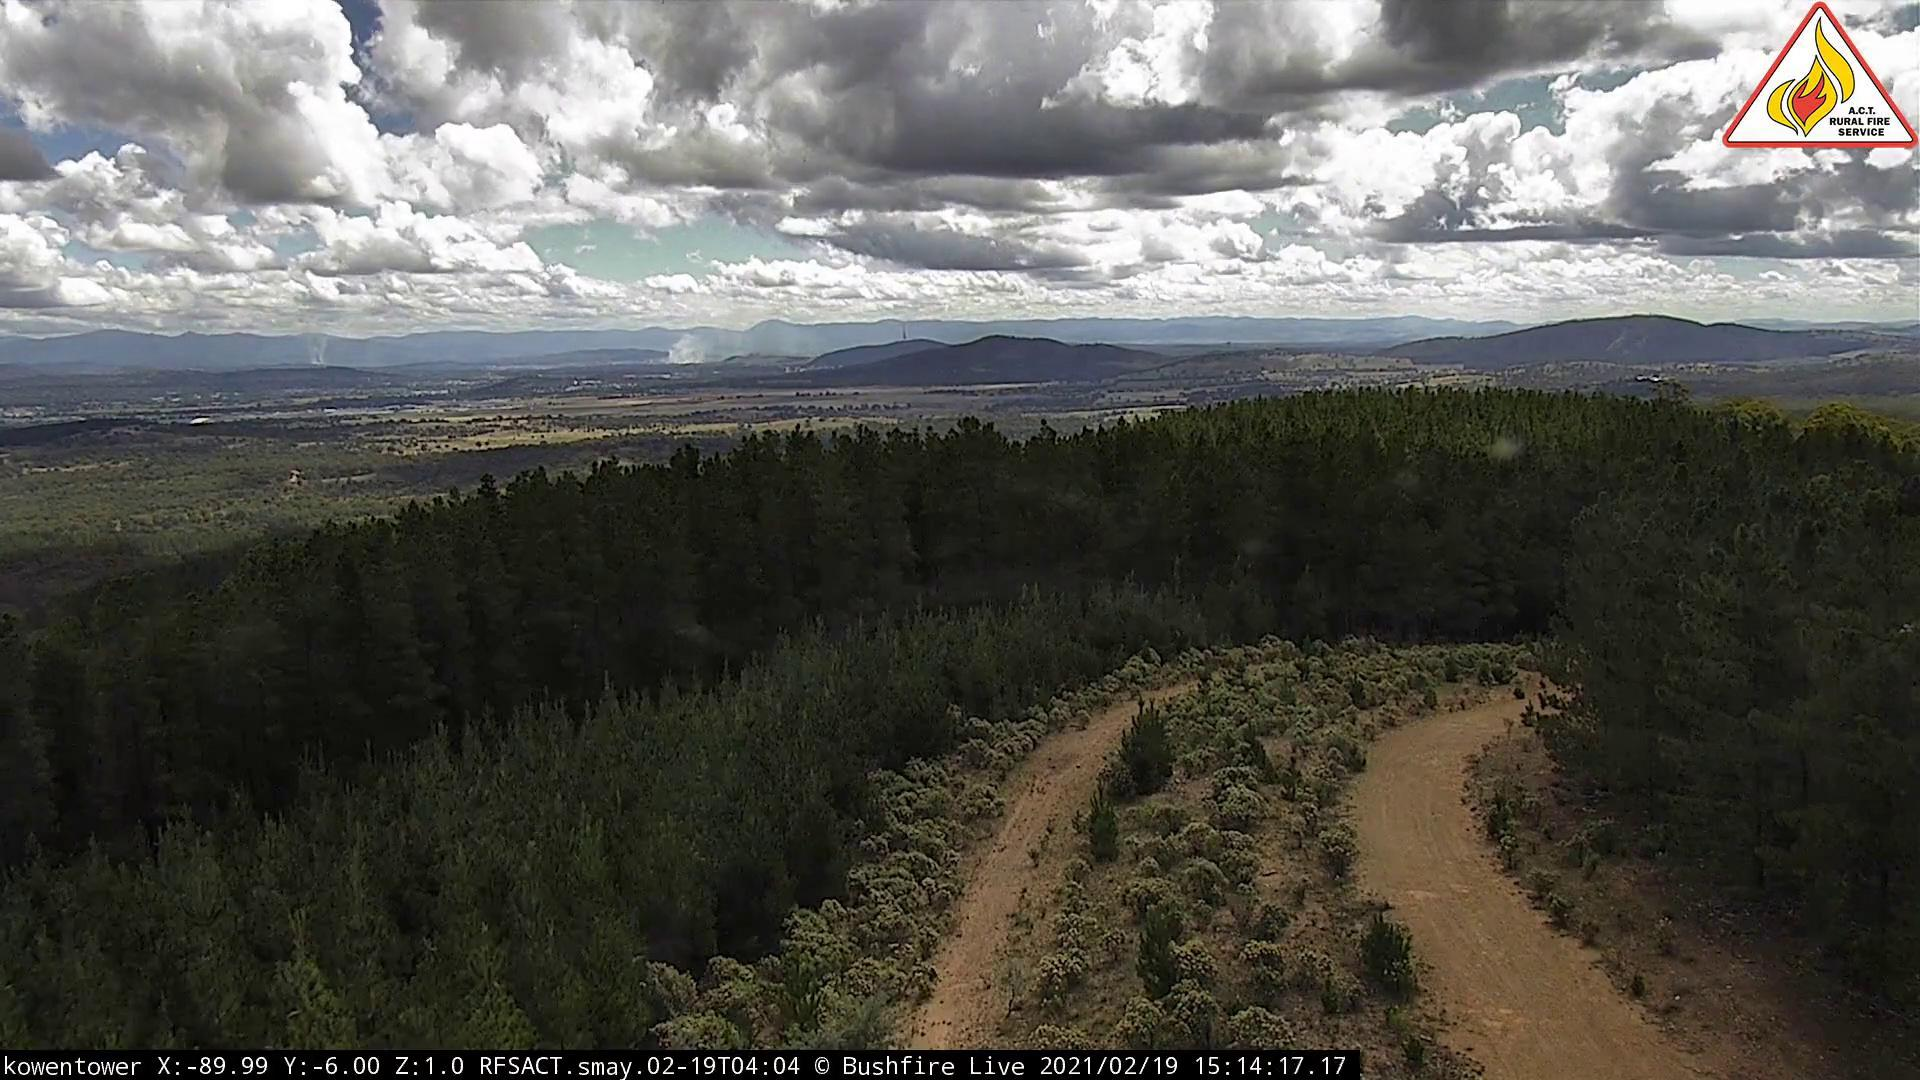instance_salient_object: (665, 310, 756, 372), (293, 309, 357, 375)
